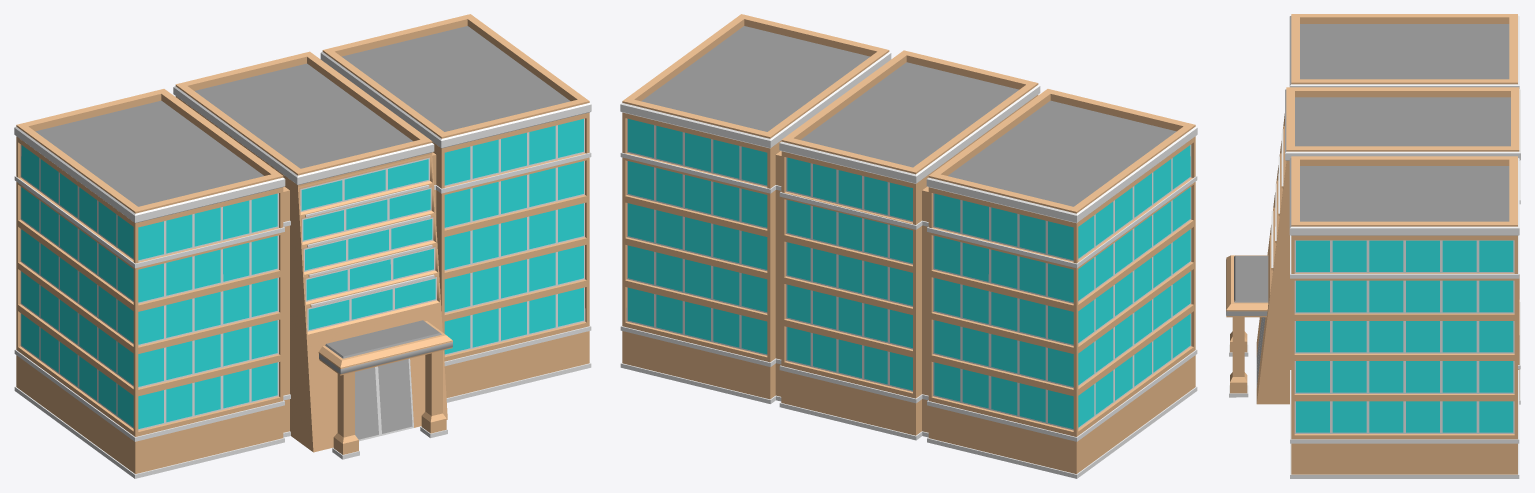
The model's file is SM_House_11_01.FBX.
3 renders of one model, left to right at view 1: azimuth 30°, elevation 25°; view 2: azimuth 150°, elevation 25°; view 3: azimuth 270°, elevation 25°, orthographic. The views are drawn at different scales.
Parts seen in each view (by area): view 1: SM_House_11_01; view 2: SM_House_11_01; view 3: SM_House_11_01.
Boxes of the visible parts, x1,y1,x2,y2 form: SM_House_11_01: (14, 14, 591, 478); SM_House_11_01: (620, 14, 1197, 478); SM_House_11_01: (1226, 14, 1520, 478).
Size of the model in its own units: 11.71 by 6.55 by 6.88.
Materials: 1 (1 with a texture image).
